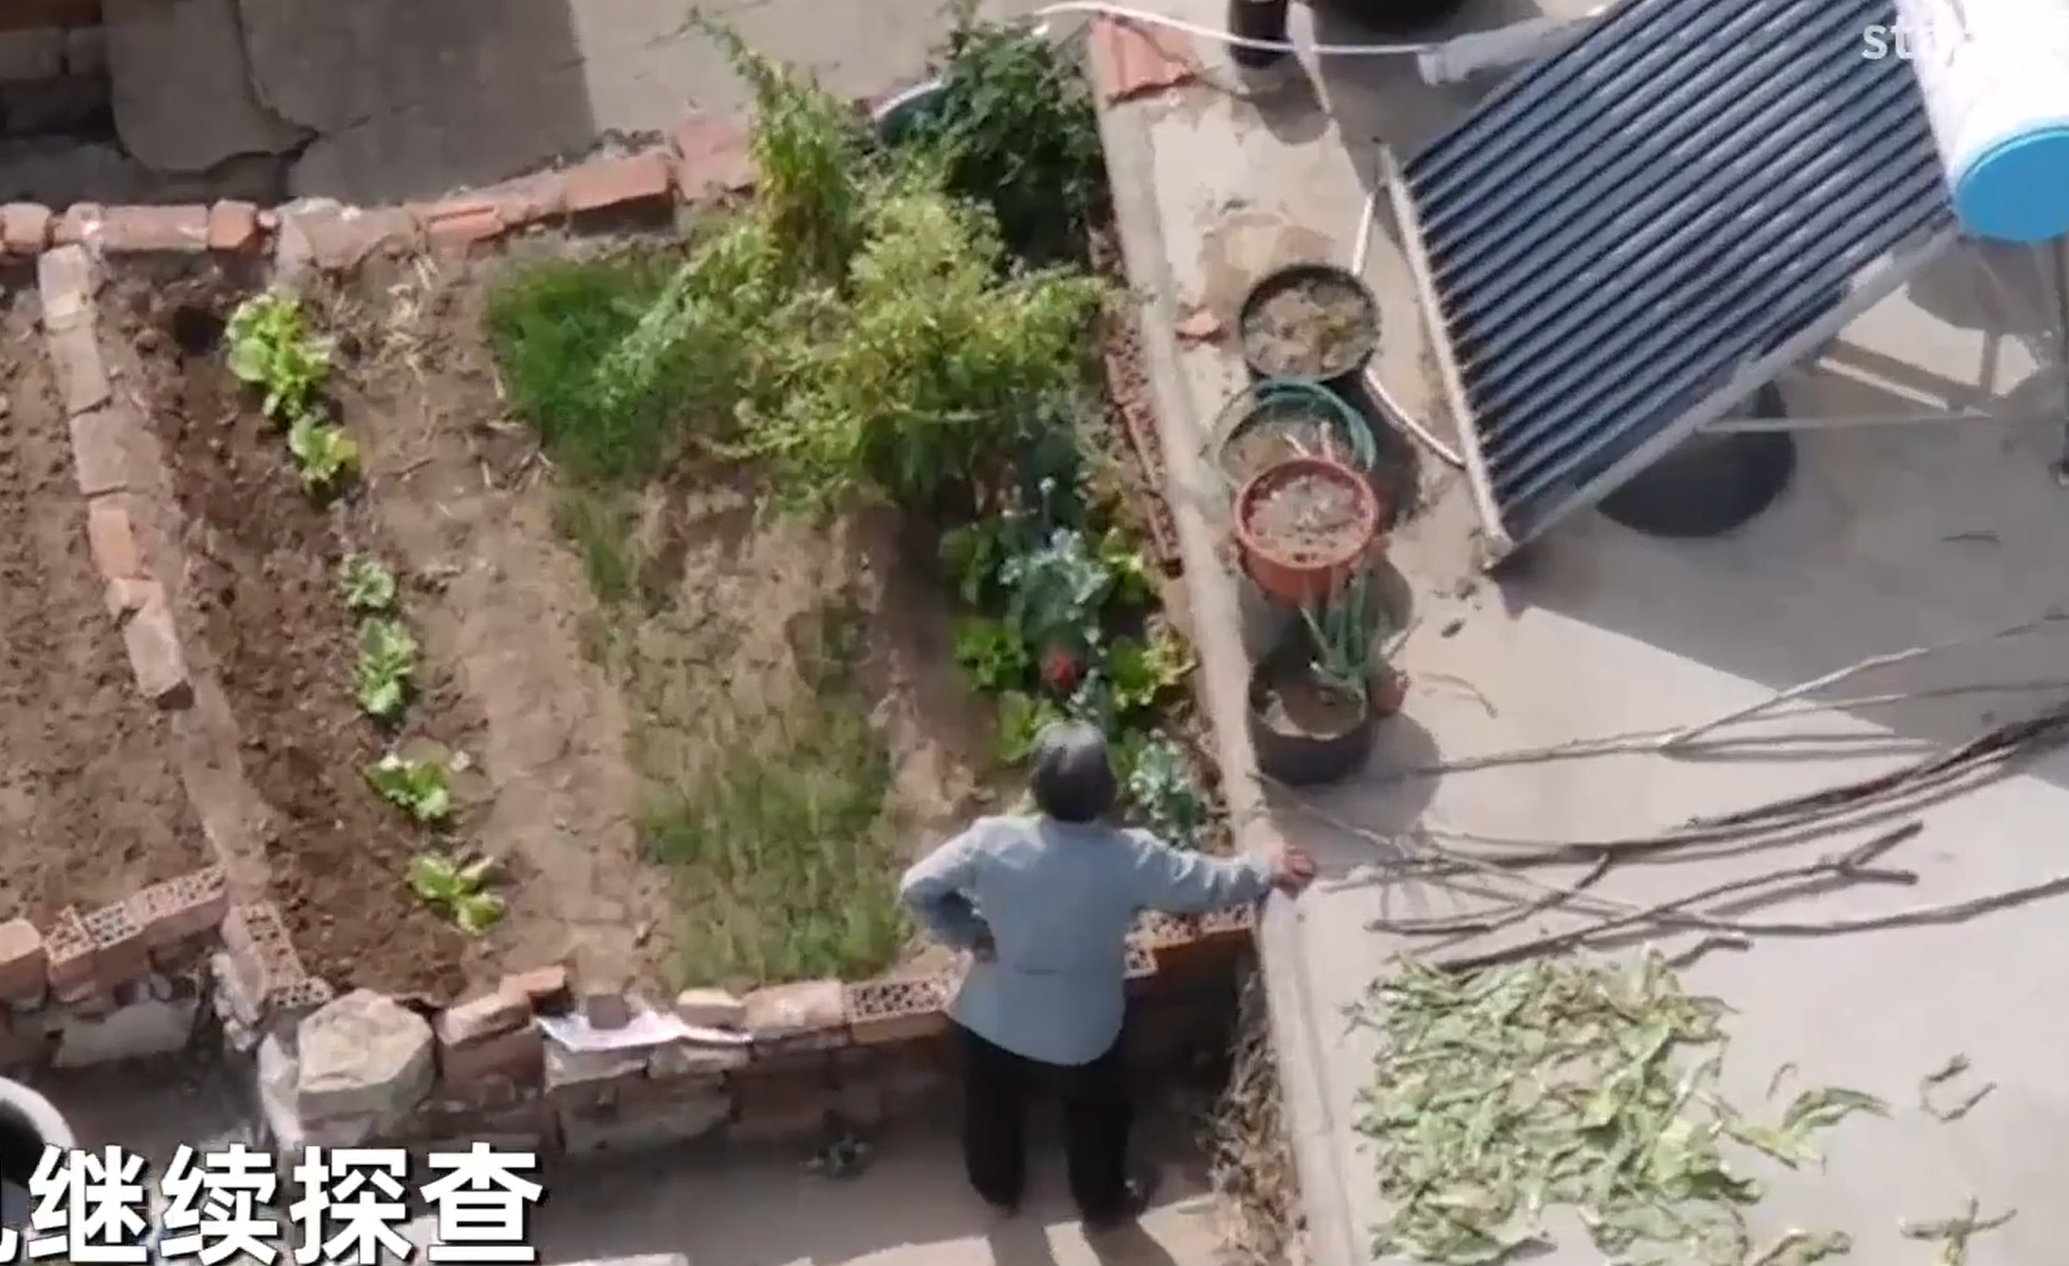Poppy: (995, 493, 1206, 838)
